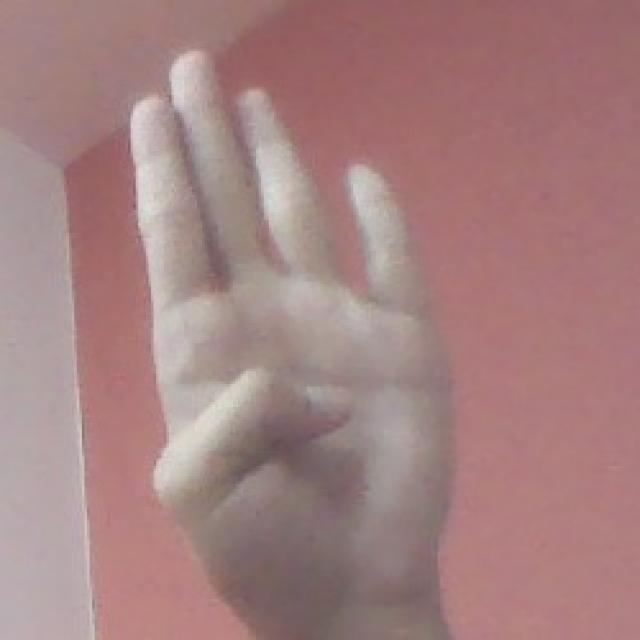Numeric-4: (131, 47, 459, 604)
